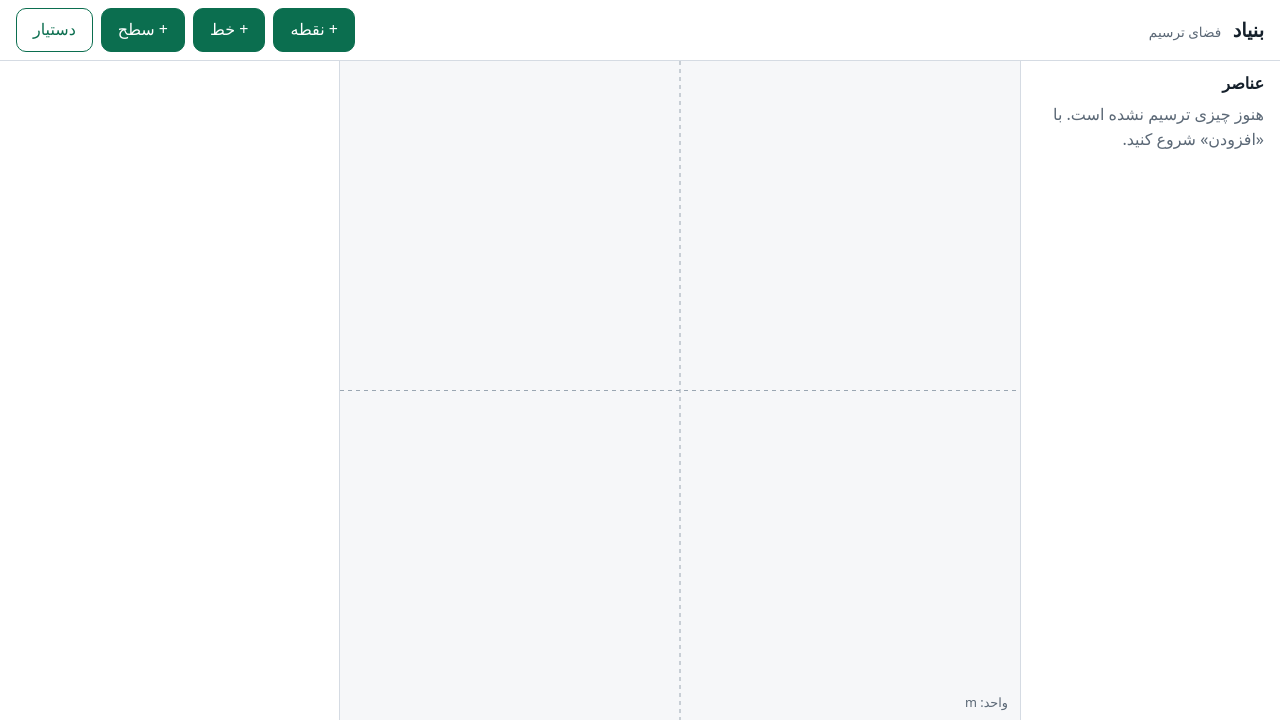
Test: assistant panel › says plainly when the service is down and keeps the typed text out of the log
Expected: the text "هنوز چیزی ترسیم نشده است. با «افزودن» شروع کنید." is shown, [1037, 102, 1264, 153]
Click the button "دستیار" at (54, 30), box [16, 8, 93, 52]
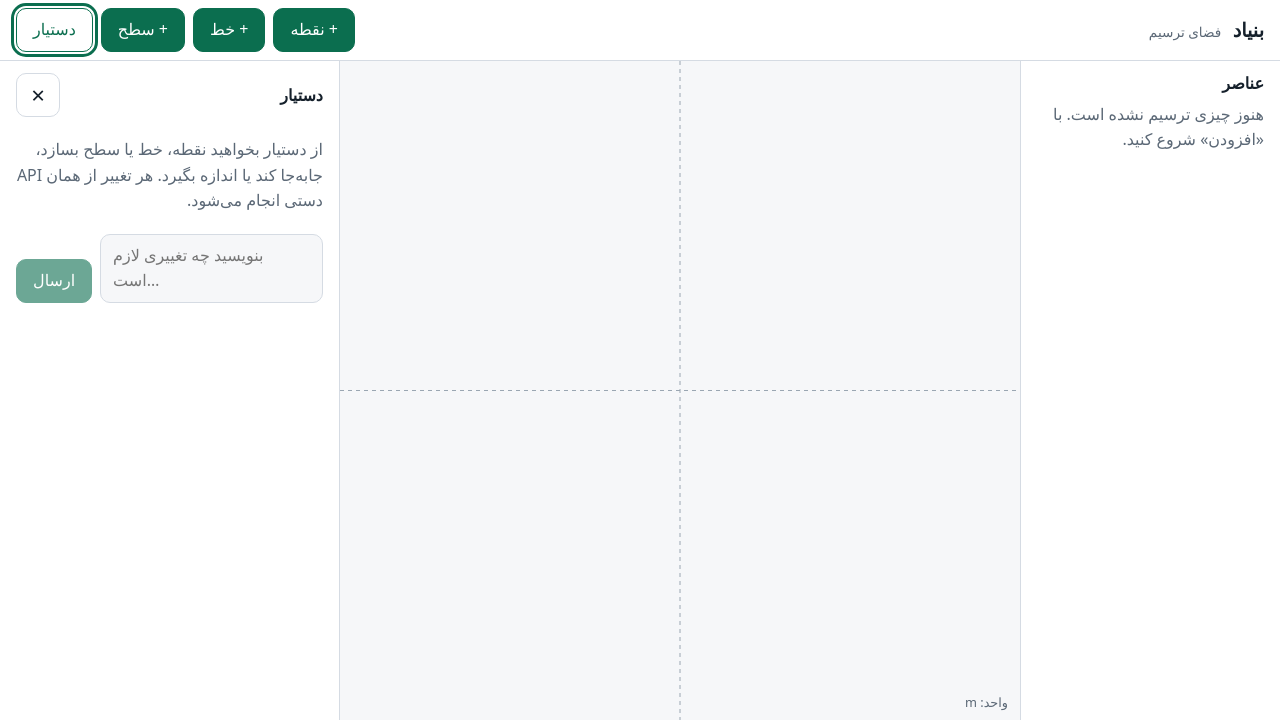
Type "hello" into the text box at (212, 268), box [100, 234, 323, 303]
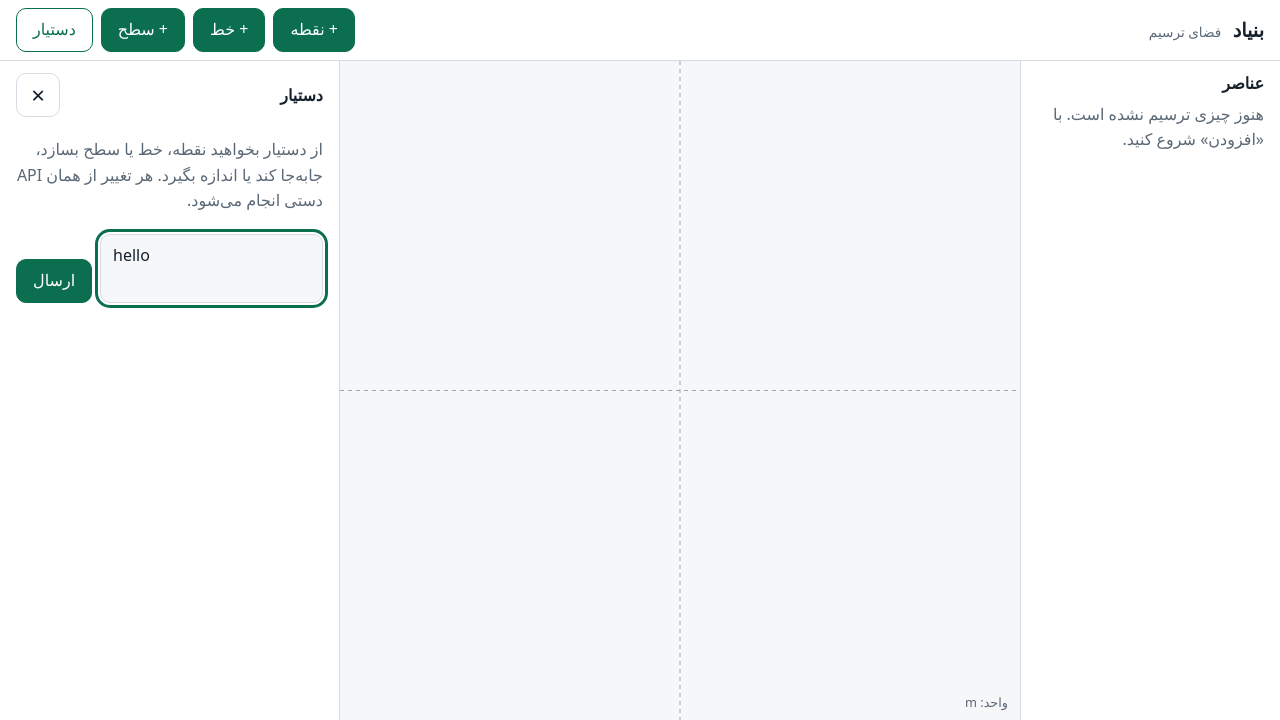
Click the button "ارسال" at (54, 281), box [16, 259, 92, 303]
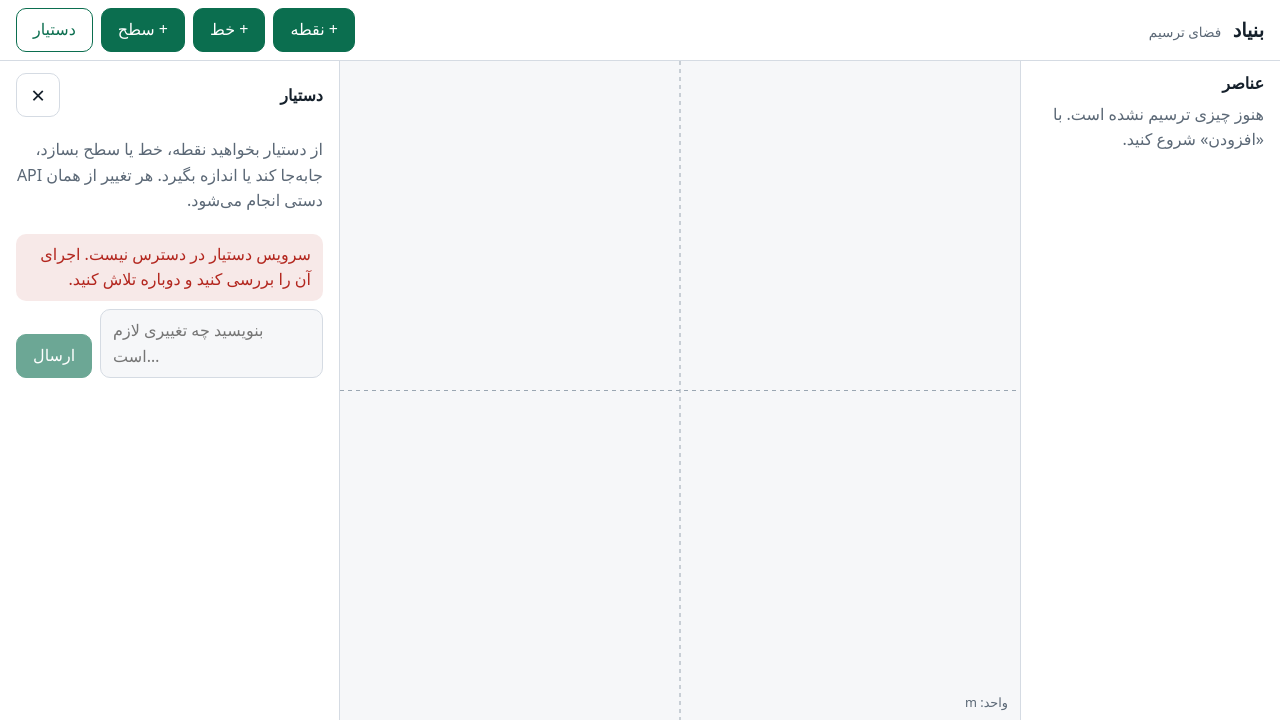
Expected: the message shows "سرویس دستیار در دسترس نیست", [40, 243, 311, 290]
